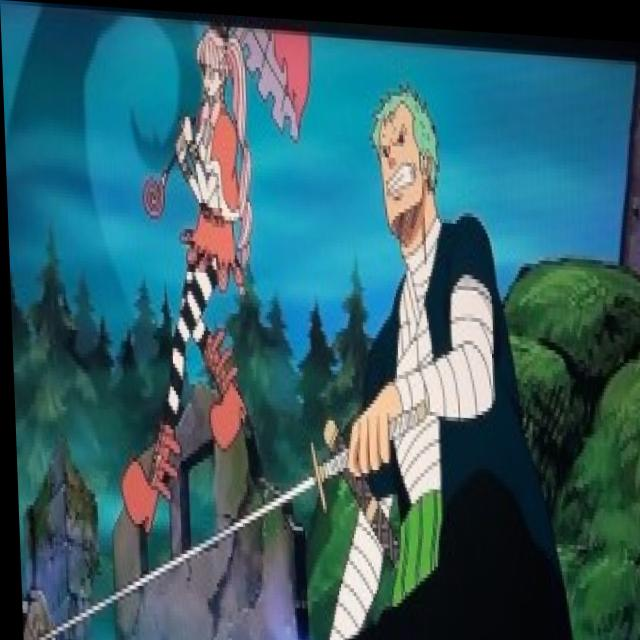Zoro: (356, 68, 443, 251)
